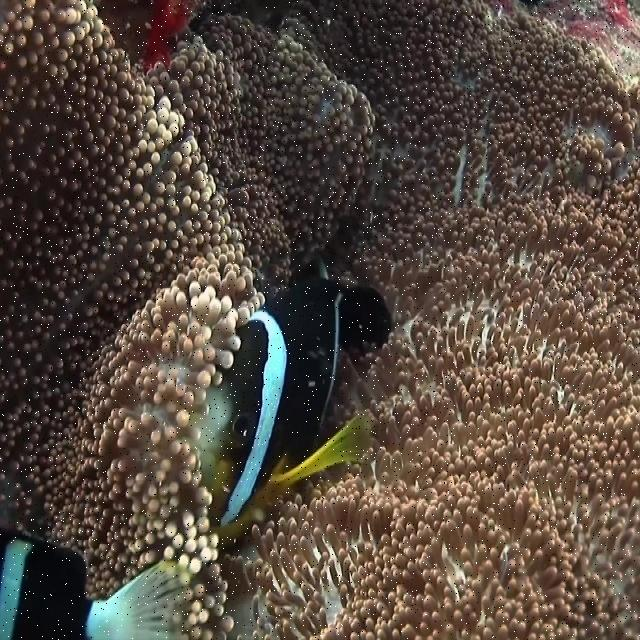fish: (192, 274, 395, 545), (0, 522, 191, 639)
reefs: (145, 1, 639, 639), (0, 0, 264, 639)
